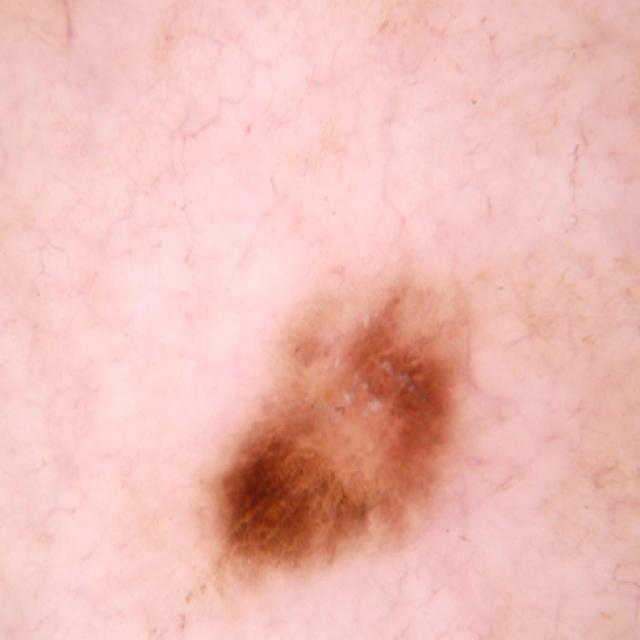Carcinoma: (155, 190, 551, 617)
